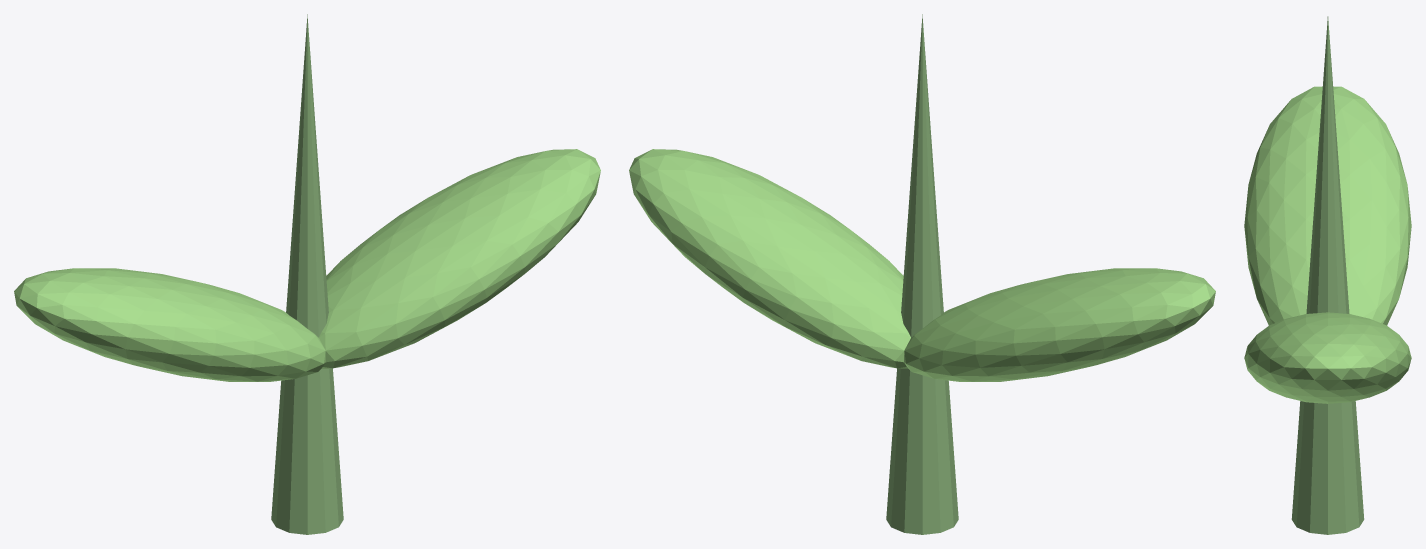
The model's file is s02-demo-seedling-preview.glb.
3 renders of one model, left to right at view 1: azimuth 30°, elevation 25°; view 2: azimuth 150°, elevation 25°; view 3: azimuth 270°, elevation 25°, orthographic.
Visible parts, largest first — view 1: world; view 2: world; view 3: world.
Boxes of the visible parts, left/top/right/bottom form: world: left=14, top=14, right=600, bottom=534; world: left=629, top=14, right=1215, bottom=534; world: left=1244, top=16, right=1411, bottom=534.
Bounding box in the file's own units: 0.1191 × 0.1 × 0.03.
